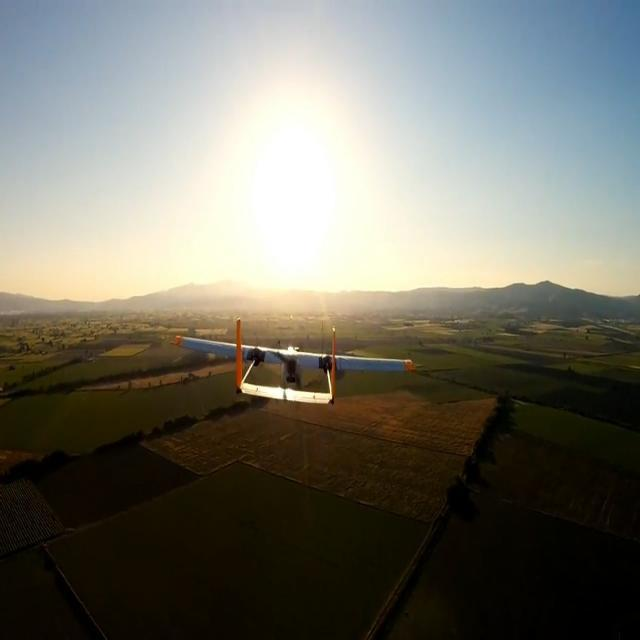iha: (161, 340, 422, 386)
